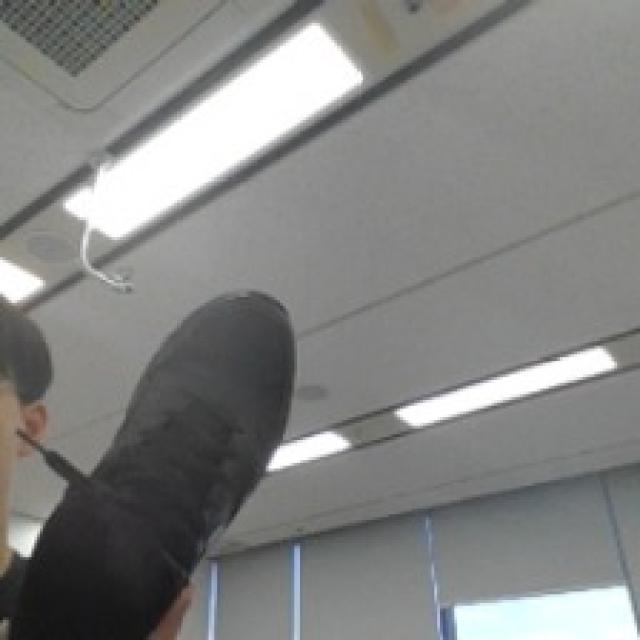shoes: (0, 278, 388, 633)
